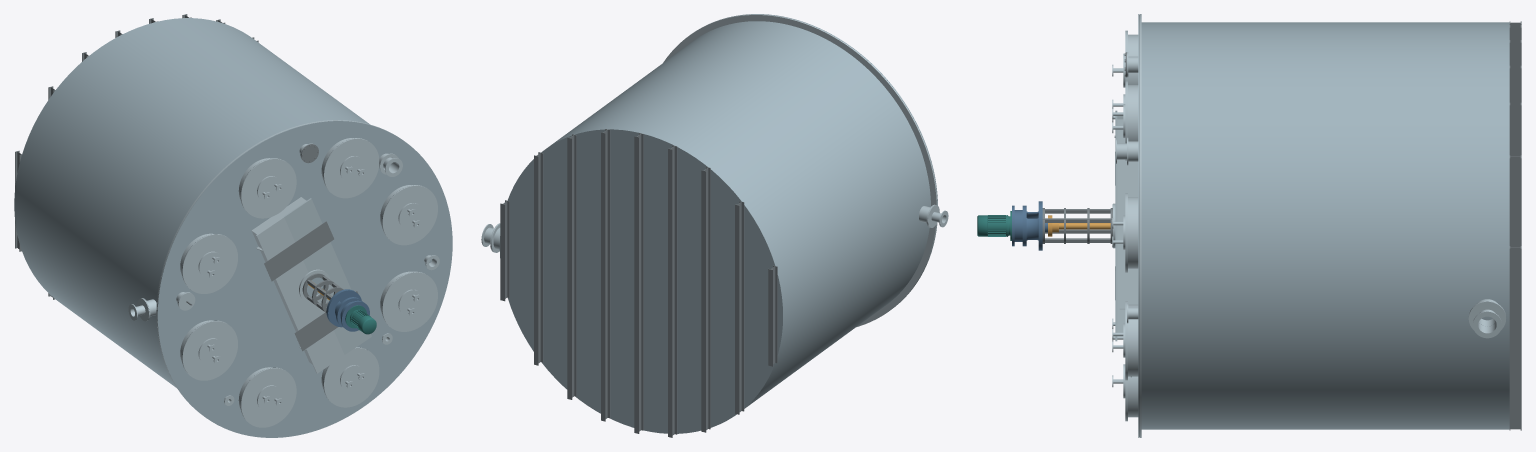
3 renders of one model, left to right at view 1: azimuth 30°, elevation 25°; view 2: azimuth 150°, elevation 25°; view 3: azimuth 270°, elevation 25°, orthographic. The views are drawn at different scales.
Visible parts, largest first — view 1: Tank_shell_OD5500_H5000, Tank_cover_lid, 盖面_m_对开顶板1, 盖面_m_对开顶板2, 接口_k3_盘管检修盖, 接口_k8_盘管检修盖, 接口_k4_盘管检修盖, 接口_k2_盘管检修盖, 接口_k6_盘管检修盖, 接口_k1_盘管检修盖, 接口_k5_盘管检修盖, 接口_k7_盘管检修盖 (+5 smaller); view 2: Tank_shell_OD5500_H5000, Lid_edge_rim, 设备支撑_I16_05_下翼缘, 设备支撑_I16_07_下翼缘, 设备支撑_I16_03_下翼缘, 设备支撑_I16_04_下翼缘, 设备支撑_I16_06_下翼缘, 设备支撑_I16_04_上翼缘, 设备支撑_I16_06_上翼缘, 设备支撑_I16_02_下翼缘, 设备支撑_I16_08_下翼缘, 设备支撑_I16_05_上翼缘 (+13 smaller); view 3: Tank_shell_OD5500_H5000, 盖面_m_高座_长边1, 设备支撑_I16_08_腹板, 设备支撑_I16_09_腹板, Lid_edge_rim, 接口_k1_DN800安装口, 设备支撑_I16_07_腹板, 01_Motor, 接口_k8_DN800安装口, 接口_k2_DN800安装口, 盖面_m_对开顶板2.
Part boxes in pixels (box(x1,y1,x2,y2)): Tank_shell_OD5500_H5000: box(14, 18, 369, 387); Tank_cover_lid: box(157, 120, 452, 437); 盖面_m_对开顶板1: box(256, 216, 344, 373); 盖面_m_对开顶板2: box(283, 198, 371, 354); 接口_k3_盘管检修盖: box(240, 158, 296, 218); 接口_k8_盘管检修盖: box(382, 272, 437, 331); 接口_k4_盘管检修盖: box(182, 234, 237, 293); 接口_k2_盘管检修盖: box(323, 138, 379, 198); 接口_k6_盘管检修盖: box(240, 368, 296, 427); 接口_k1_盘管检修盖: box(382, 185, 437, 245); 接口_k5_盘管检修盖: box(182, 321, 237, 380); 接口_k7_盘管检修盖: box(323, 347, 379, 407); Tank_shell_OD5500_H5000: box(499, 21, 930, 433); Lid_edge_rim: box(663, 14, 937, 326); 设备支撑_I16_05_下翼缘: box(634, 136, 639, 433); 设备支撑_I16_07_下翼缘: box(567, 137, 572, 399); 设备支撑_I16_03_下翼缘: box(701, 170, 706, 432); 设备支撑_I16_04_下翼缘: box(668, 148, 672, 437); 设备支撑_I16_06_下翼缘: box(601, 132, 605, 421); 设备支撑_I16_04_上翼缘: box(672, 145, 677, 434); 设备支撑_I16_06_上翼缘: box(605, 129, 610, 418); 设备支撑_I16_02_下翼缘: box(735, 204, 739, 414); 设备支撑_I16_08_下翼缘: box(534, 155, 538, 365); 设备支撑_I16_05_上翼缘: box(639, 133, 643, 430); Tank_shell_OD5500_H5000: box(1141, 22, 1509, 429); 盖面_m_高座_长边1: box(1117, 119, 1138, 332); 设备支撑_I16_08_腹板: box(1510, 156, 1520, 417); 设备支撑_I16_09_腹板: box(1510, 247, 1520, 367); Lid_edge_rim: box(1139, 14, 1141, 437); 接口_k1_DN800安装口: box(1128, 197, 1138, 268); 设备支撑_I16_07_腹板: box(1510, 104, 1520, 429); 01_Motor: box(977, 211, 1011, 240); 接口_k8_DN800安装口: box(1128, 304, 1138, 376); 接口_k2_DN800安装口: box(1128, 85, 1138, 141); 盖面_m_对开顶板2: box(1115, 116, 1117, 341).
Size of the model in its own units: 6.33 by 5.72 by 7.34.
